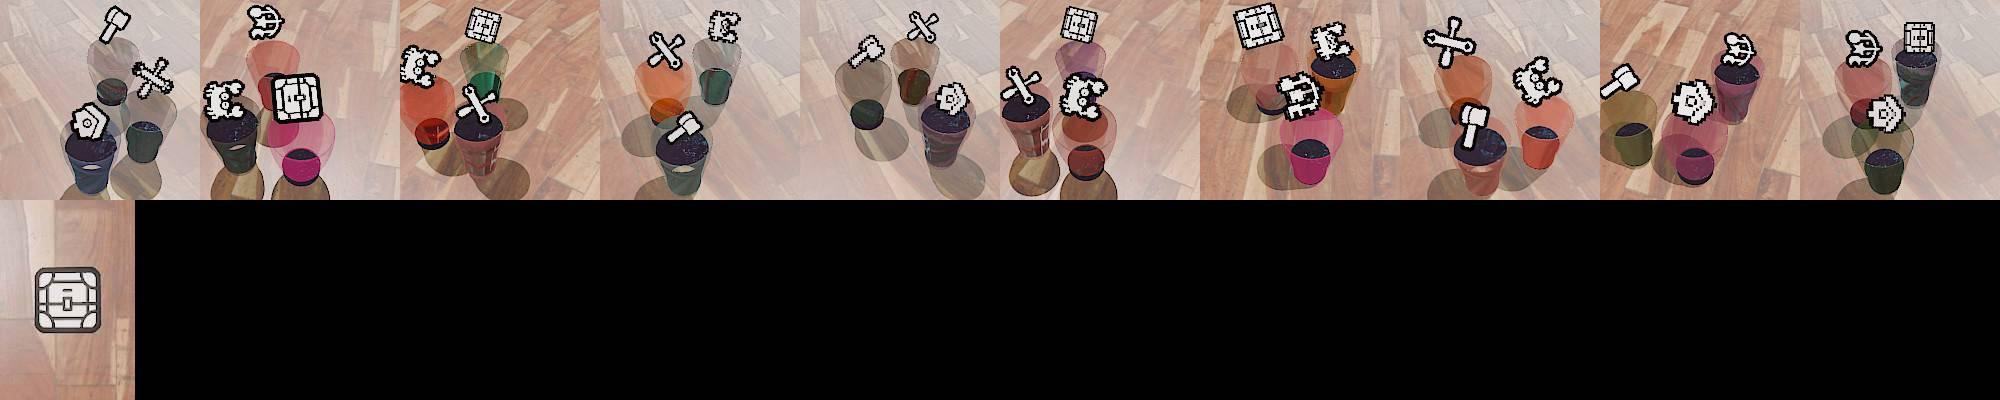icon: (31, 259, 110, 335), (1422, 16, 1477, 70), (268, 72, 324, 123), (1512, 56, 1565, 108), (1232, 3, 1283, 51), (1276, 71, 1324, 120), (1059, 71, 1105, 120), (1670, 79, 1717, 125), (202, 78, 246, 122), (131, 57, 176, 99), (399, 45, 441, 89), (1310, 20, 1354, 61), (1456, 103, 1491, 154), (1001, 65, 1042, 107), (69, 101, 110, 142), (665, 109, 707, 148), (461, 82, 497, 126), (1059, 6, 1099, 45), (1844, 28, 1882, 68), (648, 30, 686, 69), (465, 6, 503, 45), (1601, 62, 1641, 99), (1719, 31, 1758, 68), (246, 3, 285, 40), (1867, 95, 1905, 132), (99, 5, 132, 45), (849, 33, 886, 68), (934, 80, 969, 116), (907, 9, 940, 44), (1903, 21, 1935, 57), (708, 9, 740, 44)
